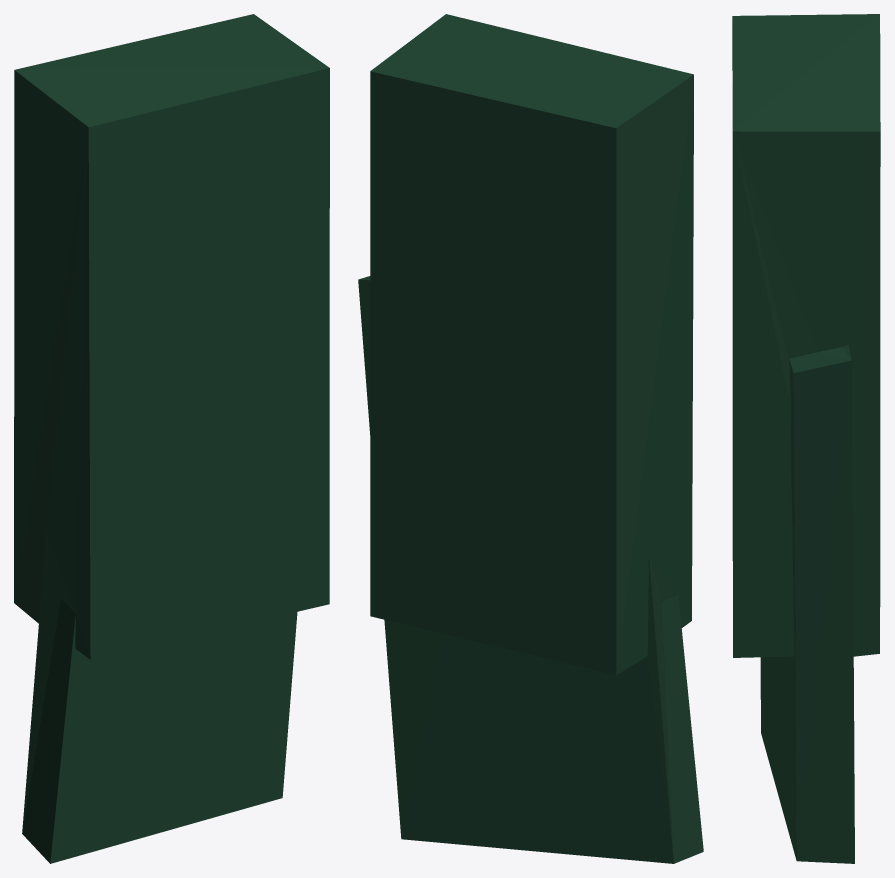
3 renders of one model, left to right at view 1: azimuth 30°, elevation 25°; view 2: azimuth 150°, elevation 25°; view 3: azimuth 270°, elevation 25°, orthographic. The views are drawn at different scales.
Parts seen in each view (by area): view 1: 583_Cube.2347; view 2: 583_Cube.2347; view 3: 583_Cube.2347.
Boxes of the visible parts, bbox=[...] form: 583_Cube.2347: bbox=[14, 14, 329, 863]; 583_Cube.2347: bbox=[358, 14, 703, 863]; 583_Cube.2347: bbox=[732, 14, 880, 863].
Bounding box in the file's own units: 6.84 × 17 × 3.07.
